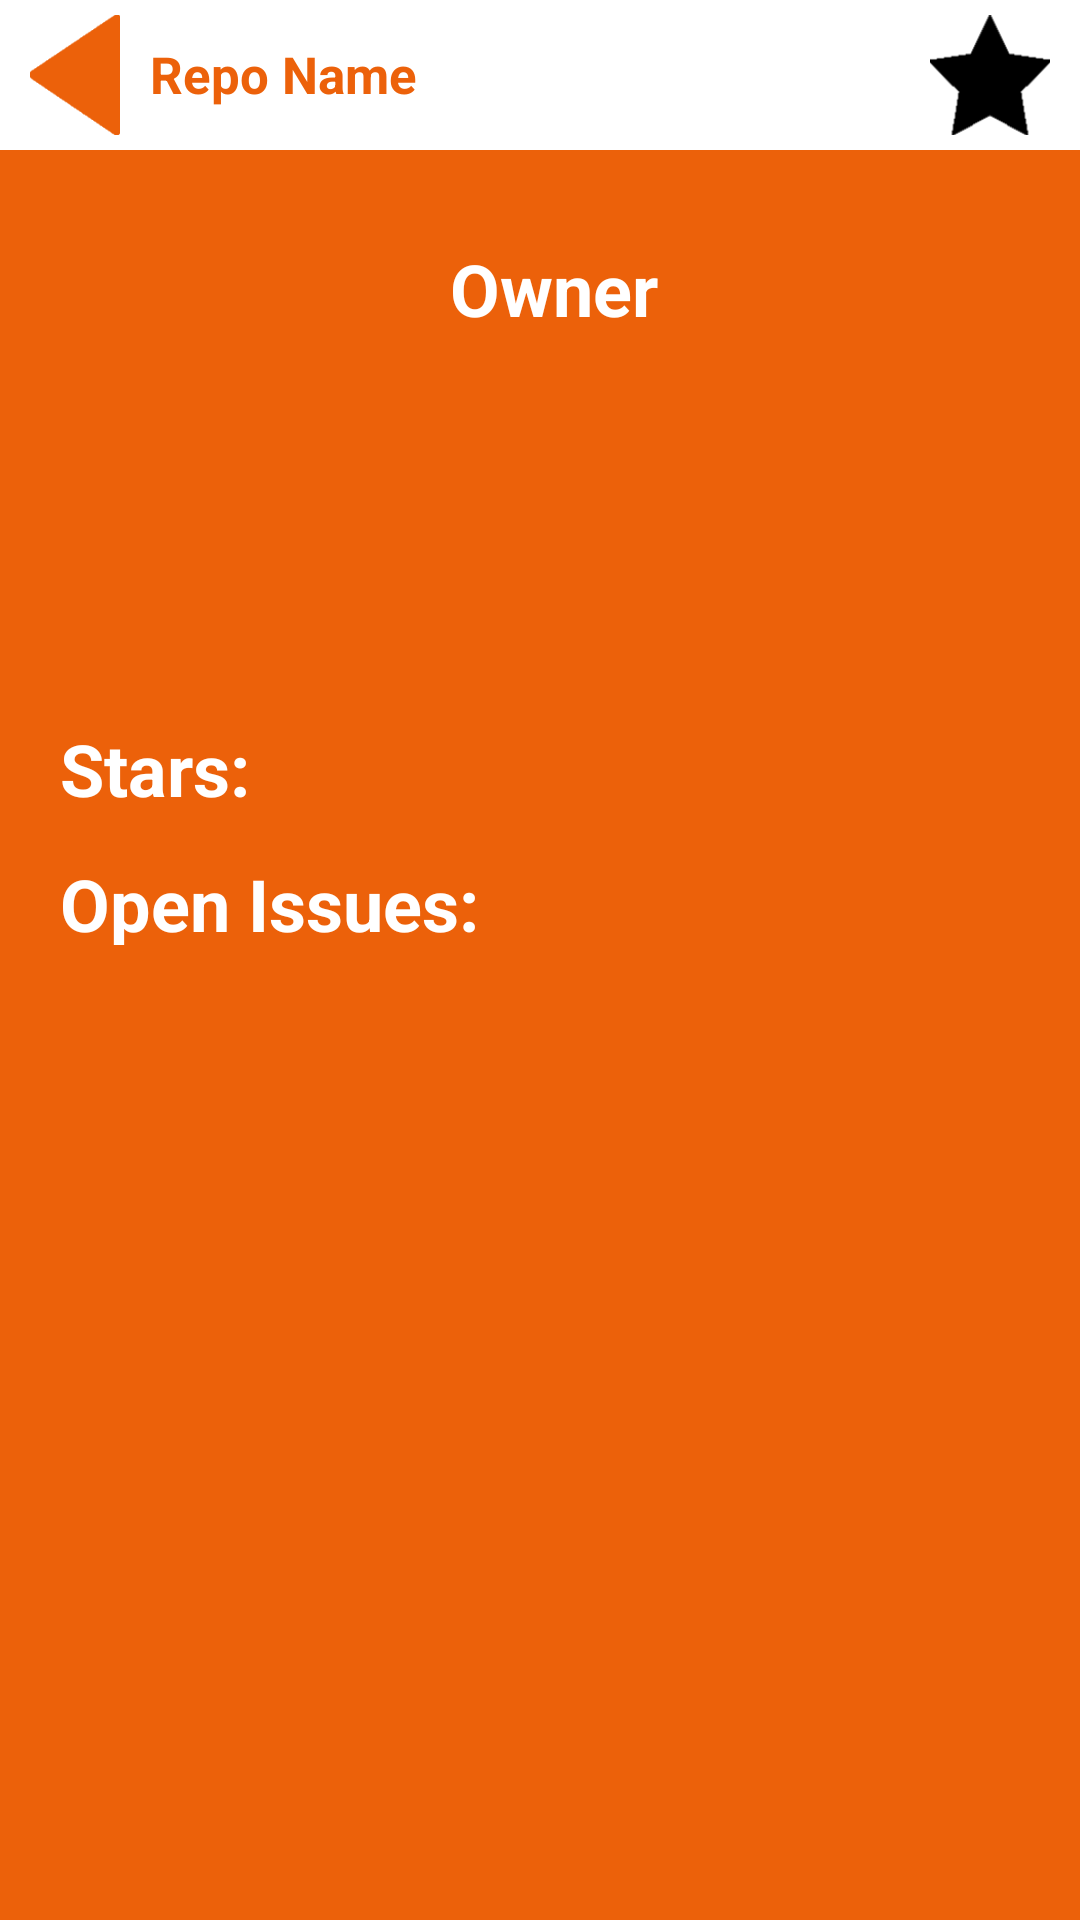

Icon bounding boxes for this 1080*1920 phone screenshot, format (x1, y1, x2, y2):
star: (930, 15, 1050, 135)
